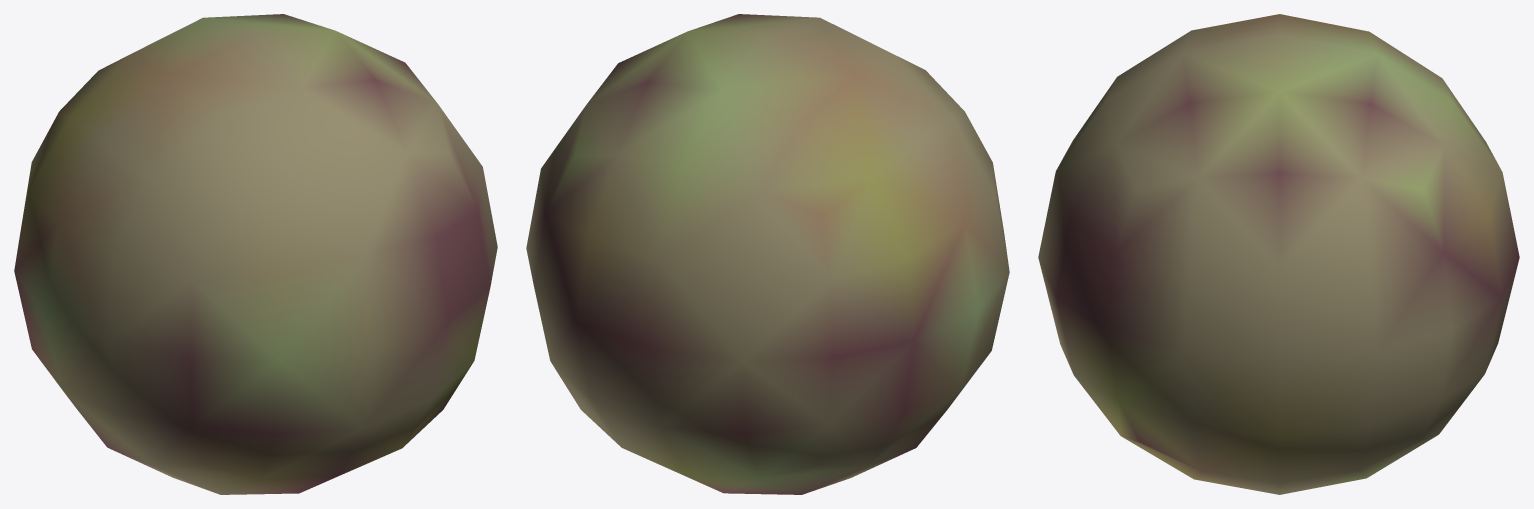
The picture shows the model from 3 angles, left to right: view 1: azimuth 30°, elevation 25°; view 2: azimuth 150°, elevation 25°; view 3: azimuth 270°, elevation 25°; orthographic projection.
Visible parts, largest first — view 1: atmos17.001; view 2: atmos17.001; view 3: atmos17.001.
Boxes of the visible parts, x1,y1,x2,y2 form: atmos17.001: [14, 14, 497, 494]; atmos17.001: [526, 14, 1009, 494]; atmos17.001: [1038, 14, 1519, 494].
Size of the model in its own units: 0.4999 by 0.4999 by 0.5.
